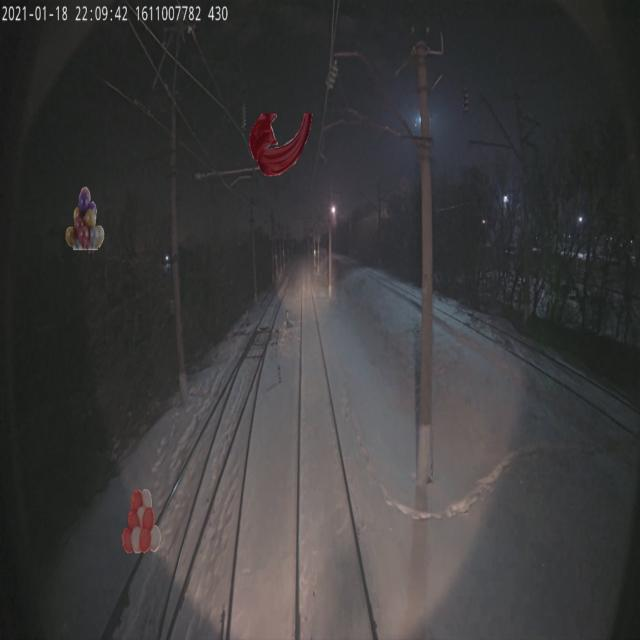balloon: (122, 489, 161, 553), (65, 186, 104, 250)
floating object: (249, 112, 313, 176)
